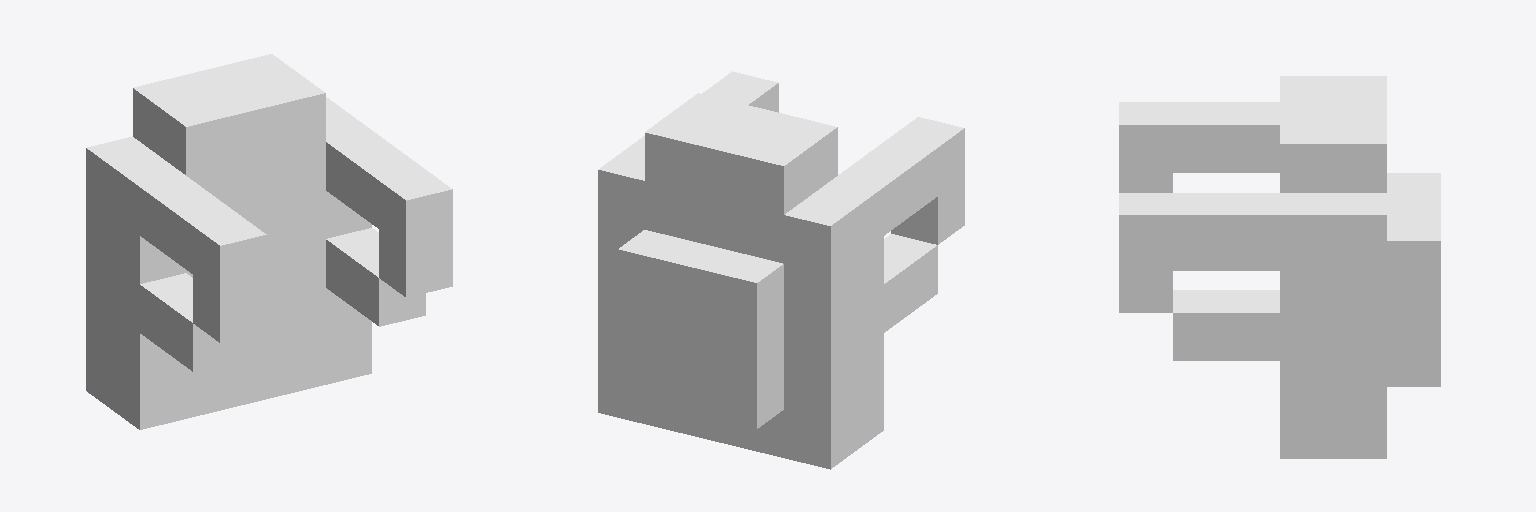
Rendered from SH_Soldier-0-Backpack.obj.
3 views of the same model, side by side, from view 1: azimuth 30°, elevation 25°; view 2: azimuth 150°, elevation 25°; view 3: azimuth 270°, elevation 25° (orthographic).
Parts seen in each view (by area): view 1: Backpack; view 2: Backpack; view 3: Backpack.
Part boxes in pixels (x1,y1,x2,y2): Backpack: (86,54,452,429); Backpack: (598,71,964,469); Backpack: (1119,76,1440,458).
Bounding box in the file's own units: 0.5 × 0.6 × 0.6.